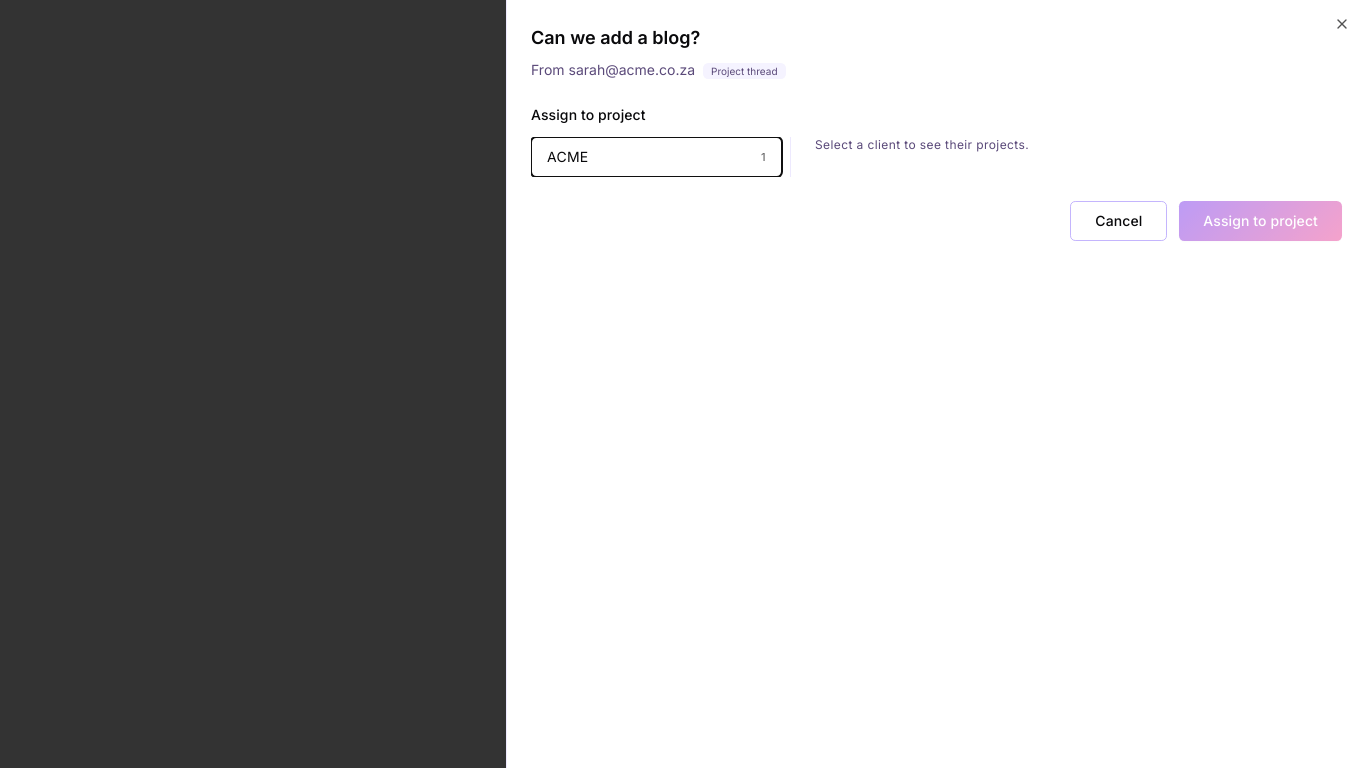
Test: InboxAssignModal › lists available projects after selecting a client
Click the text "ACME" at (568, 157), box [547, 147, 588, 167]
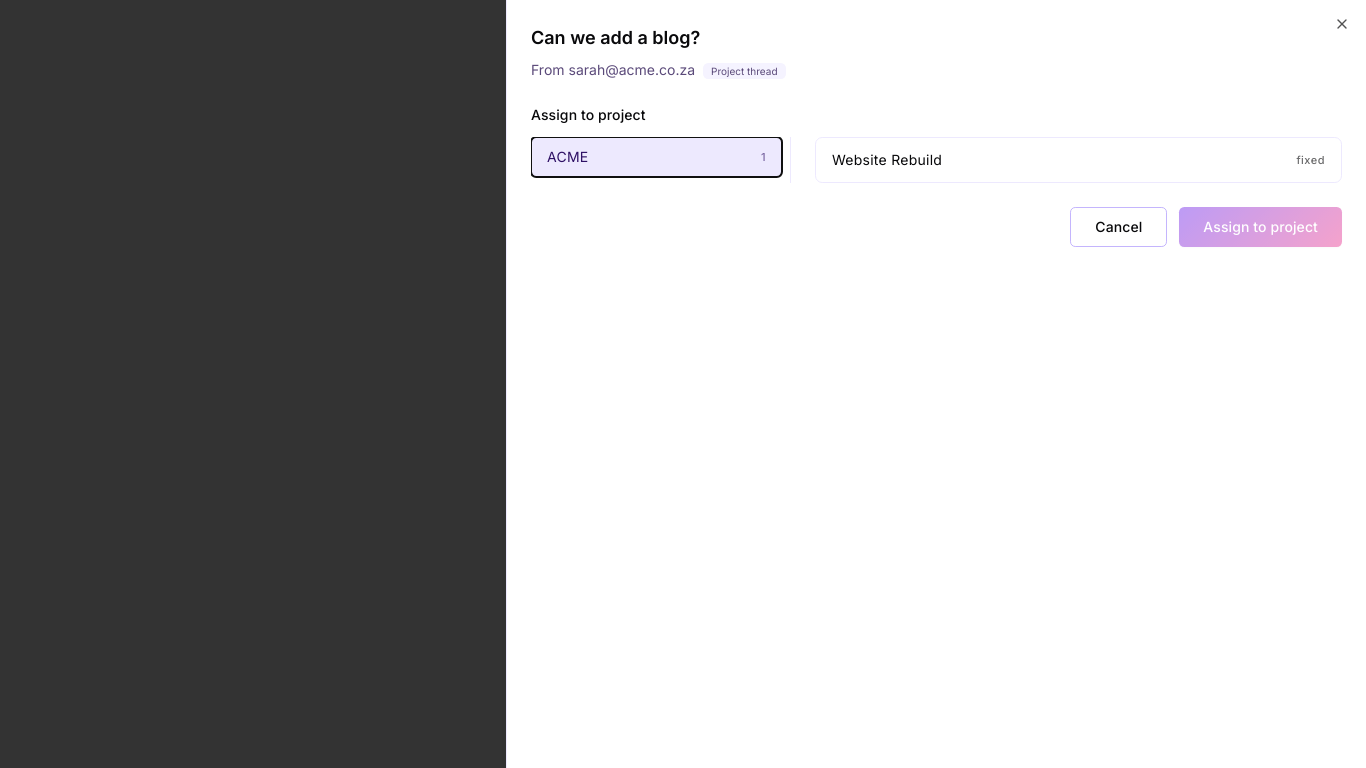
Check: the text "Website Rebuild" is shown, box [832, 151, 942, 168]
